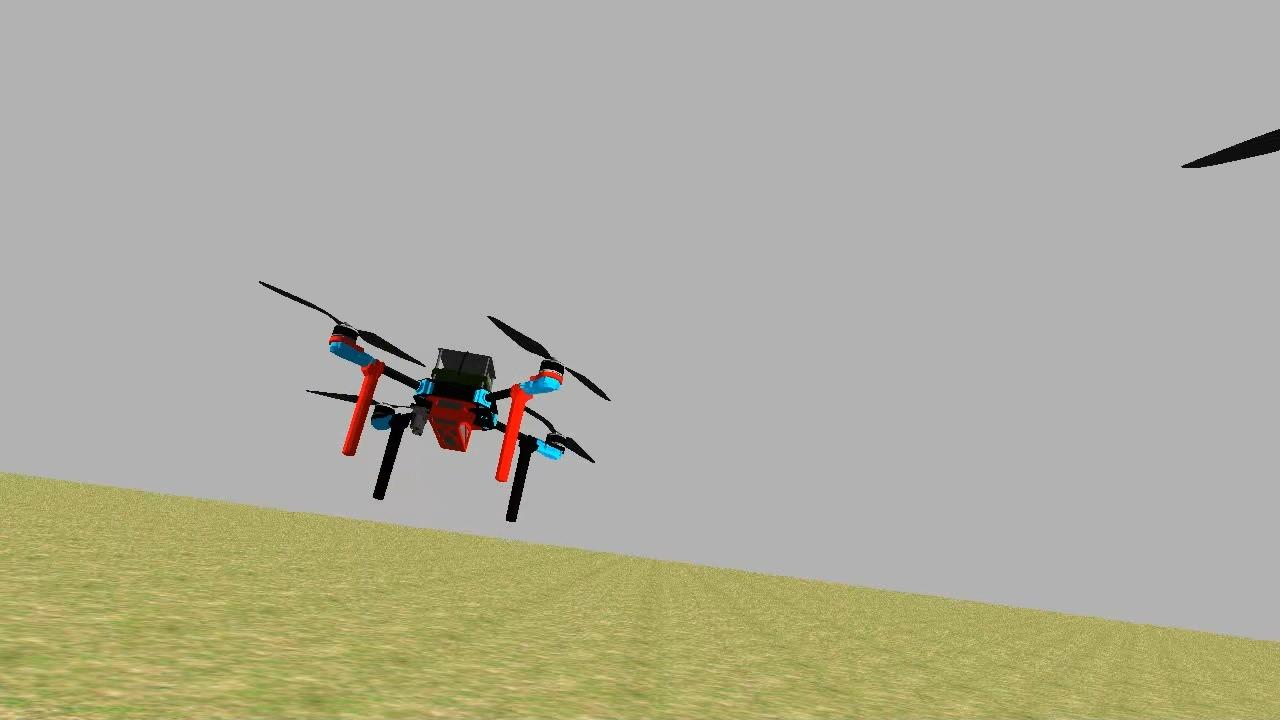UAV: (314, 310, 574, 534)
